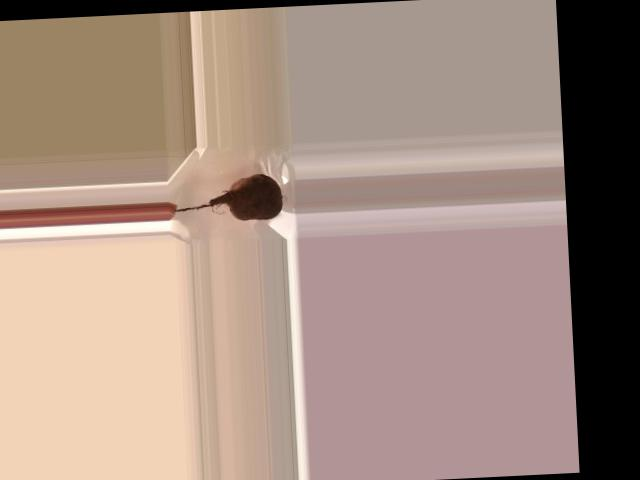beet: (171, 172, 283, 223)
